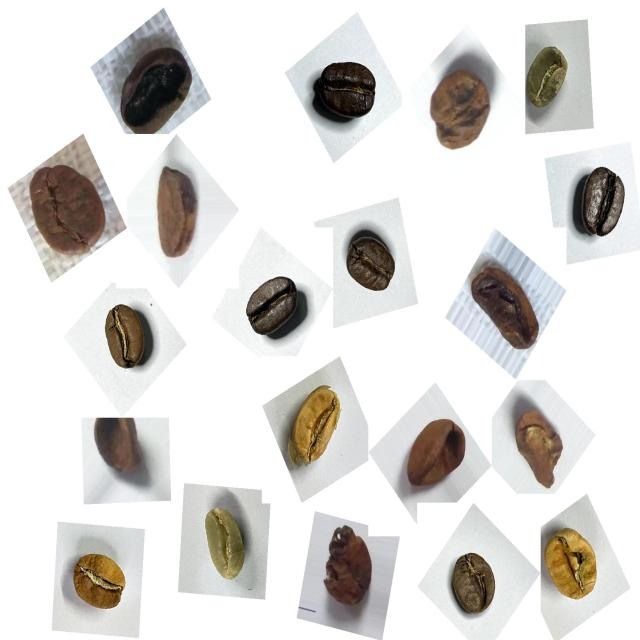bad: (20, 153, 113, 268), (108, 33, 200, 146), (464, 253, 547, 359), (423, 54, 504, 162), (142, 158, 211, 268), (313, 517, 386, 619), (396, 410, 473, 504), (504, 396, 570, 493), (85, 412, 150, 488)
dark: (564, 155, 640, 251), (306, 49, 387, 138), (236, 262, 310, 348), (336, 219, 406, 305)
green: (188, 493, 258, 592), (514, 38, 580, 122)
light: (281, 374, 354, 478), (540, 519, 610, 615), (62, 541, 136, 625)
medium: (442, 543, 507, 625), (92, 298, 156, 381)
